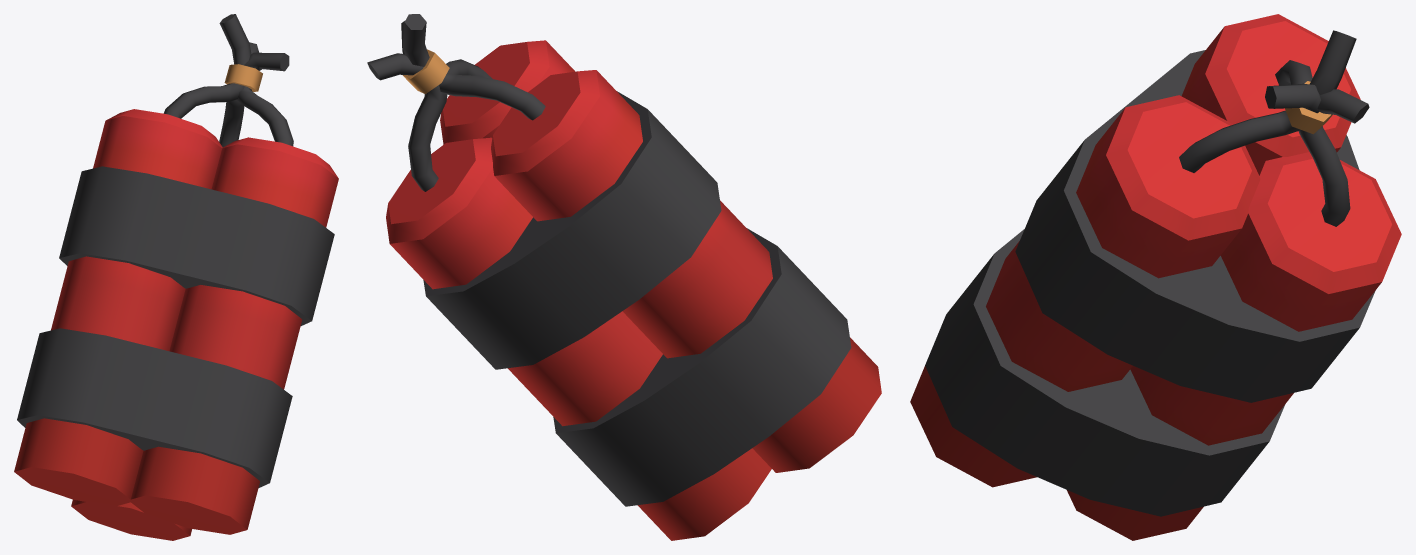
File: Projectile_Bomb.fbx
3 renders of one model, left to right at view 1: azimuth 30°, elevation 25°; view 2: azimuth 150°, elevation 25°; view 3: azimuth 270°, elevation 25°, orthographic. The views are drawn at different scales.
Visible parts, largest first — view 1: Dynamite02; view 2: Dynamite02; view 3: Dynamite02.
Boxes of the visible parts, <box> form: Dynamite02: <box>14,14,338,540</box>; Dynamite02: <box>367,14,881,540</box>; Dynamite02: <box>910,14,1401,540</box>.
Size of the model in its own units: 13.9 by 17.76 by 13.12.
